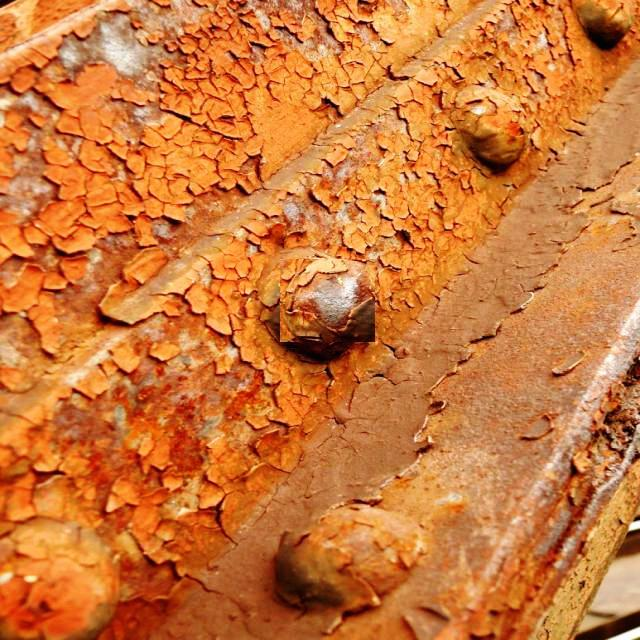Corrosion: (0, 0, 640, 640), (0, 0, 638, 640)
